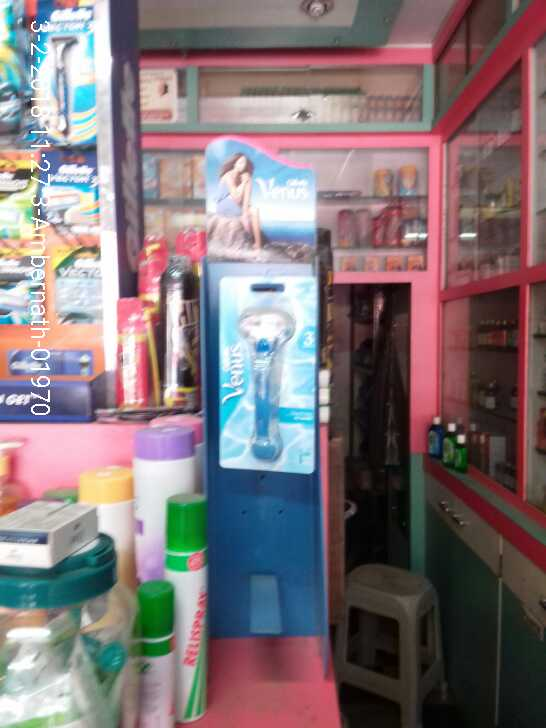beauty: (222, 279, 311, 475), (35, 14, 94, 143), (34, 151, 95, 232), (53, 240, 105, 330), (1, 252, 42, 318), (1, 152, 26, 233)
